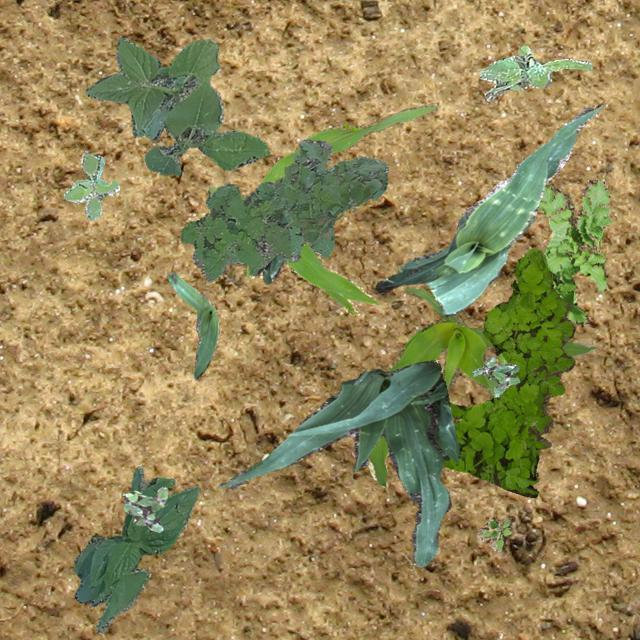crop: (217, 360, 458, 566), (207, 102, 438, 314), (374, 104, 600, 316), (368, 286, 596, 486), (72, 466, 198, 632), (166, 270, 218, 378)
weed: (442, 248, 574, 497), (180, 138, 388, 280), (84, 34, 268, 174), (493, 178, 611, 364), (478, 44, 592, 100), (63, 150, 119, 220), (121, 486, 168, 532), (471, 356, 518, 396), (248, 252, 298, 282), (476, 516, 511, 550)
